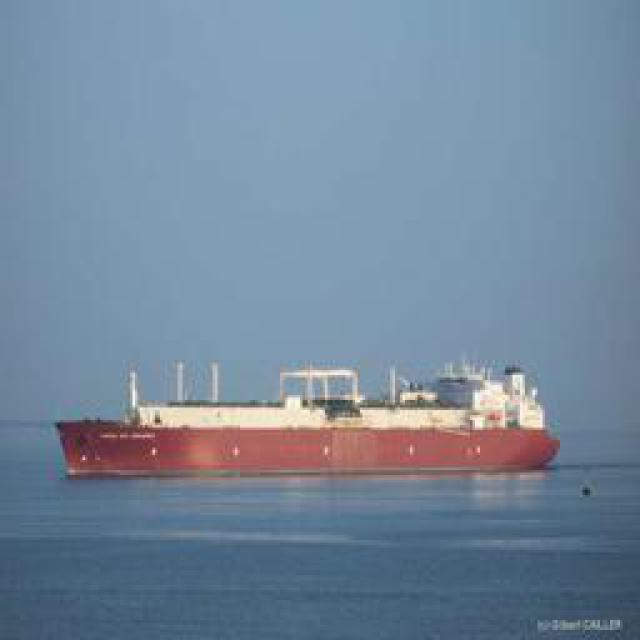Ship: (64, 362, 554, 475)
